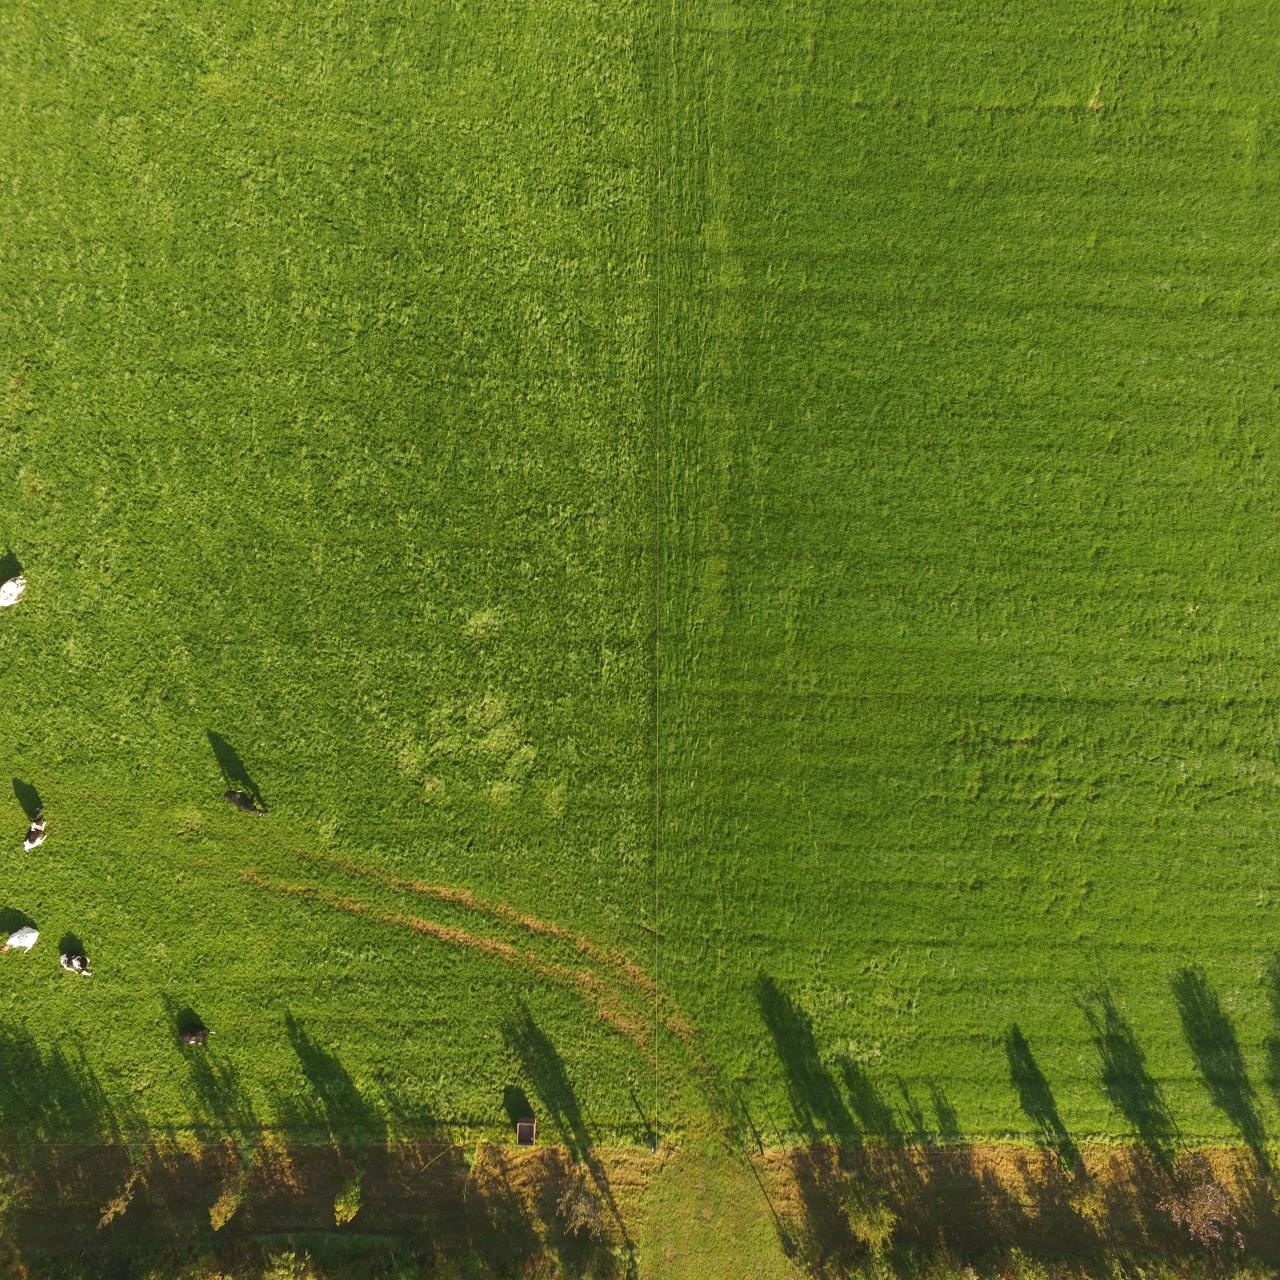cow: (224, 788, 272, 821), (22, 803, 52, 853), (176, 1021, 220, 1054), (0, 922, 40, 953), (57, 951, 95, 979)
